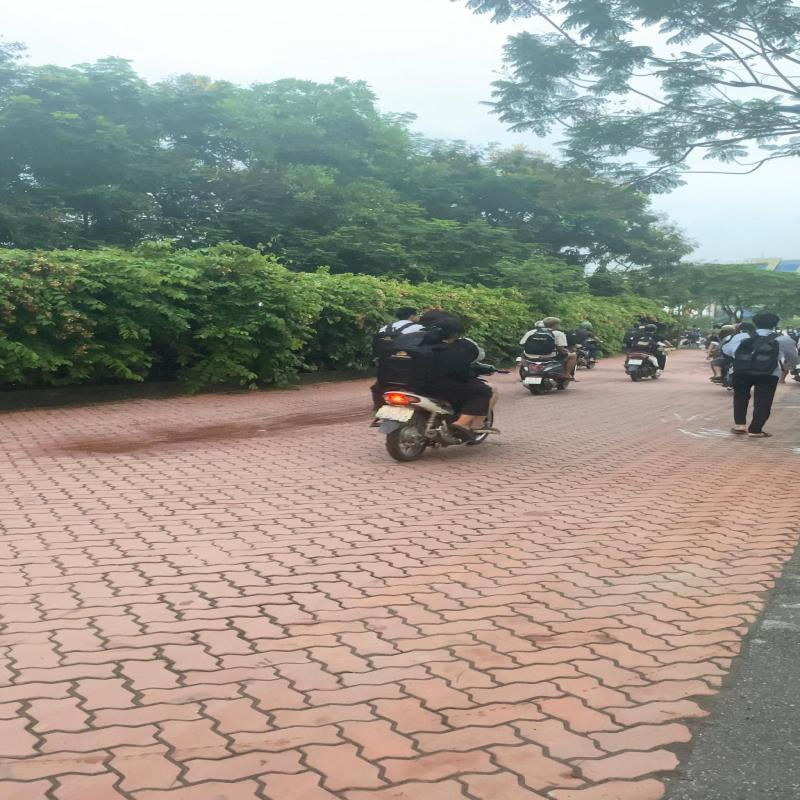licenseplate: (374, 405, 414, 422)
motorcyclist: (366, 308, 516, 462)
nohelmet: (431, 316, 468, 338), (420, 310, 456, 328)
